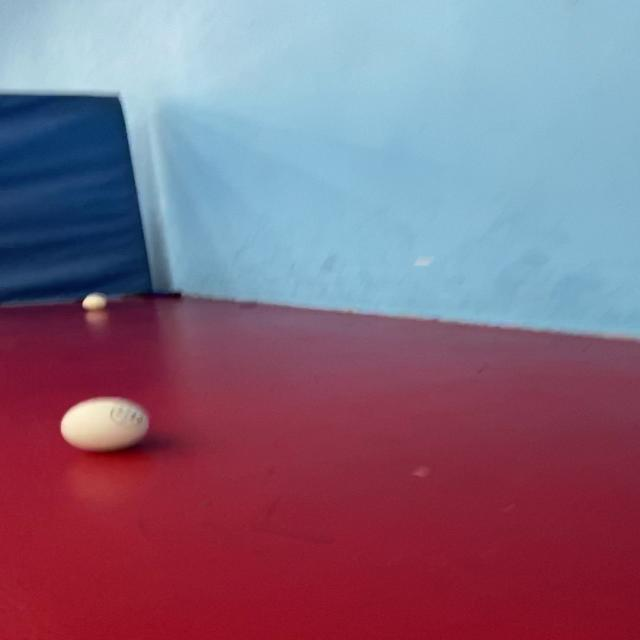ping-pong-ball: (52, 388, 160, 462), (69, 287, 111, 315)
